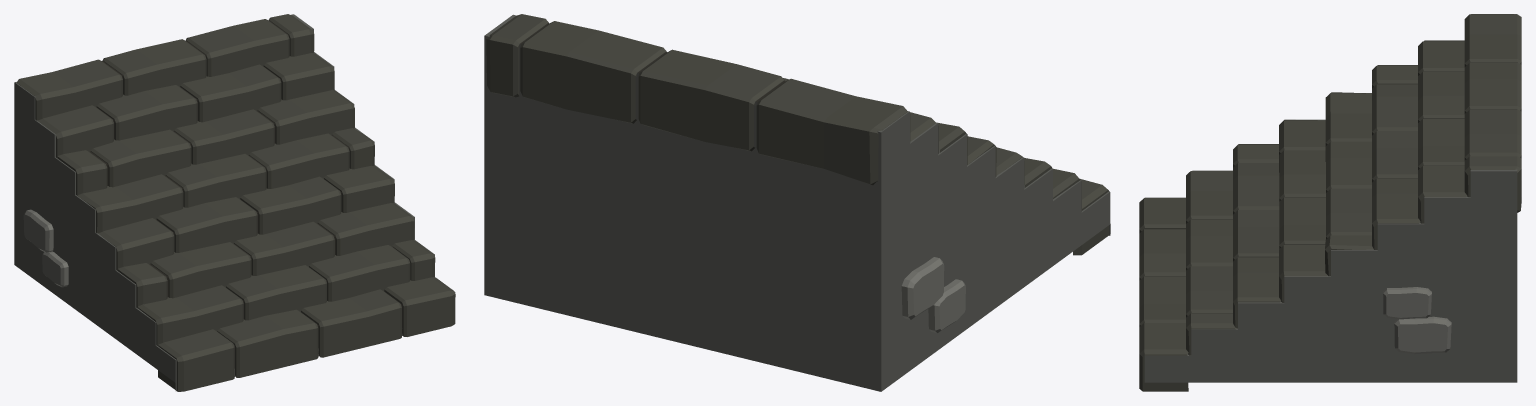
The model's file is stone_steps_low.gltf.
The picture shows the model from 3 angles, left to right: view 1: azimuth 30°, elevation 25°; view 2: azimuth 150°, elevation 25°; view 3: azimuth 270°, elevation 25°; orthographic projection. The views are drawn at different scales.
Visible parts, largest first — view 1: Stairs_Low; view 2: Stairs_Low; view 3: Stairs_Low.
Boxes of the visible parts, left/top/right/bottom form: Stairs_Low: left=14, top=14, right=455, bottom=391; Stairs_Low: left=484, top=14, right=1110, bottom=391; Stairs_Low: left=1139, top=14, right=1521, bottom=391.
Size of the model in its own units: 4.18 by 2.66 by 4.11.
Materials: 2 (2 with a texture image).
